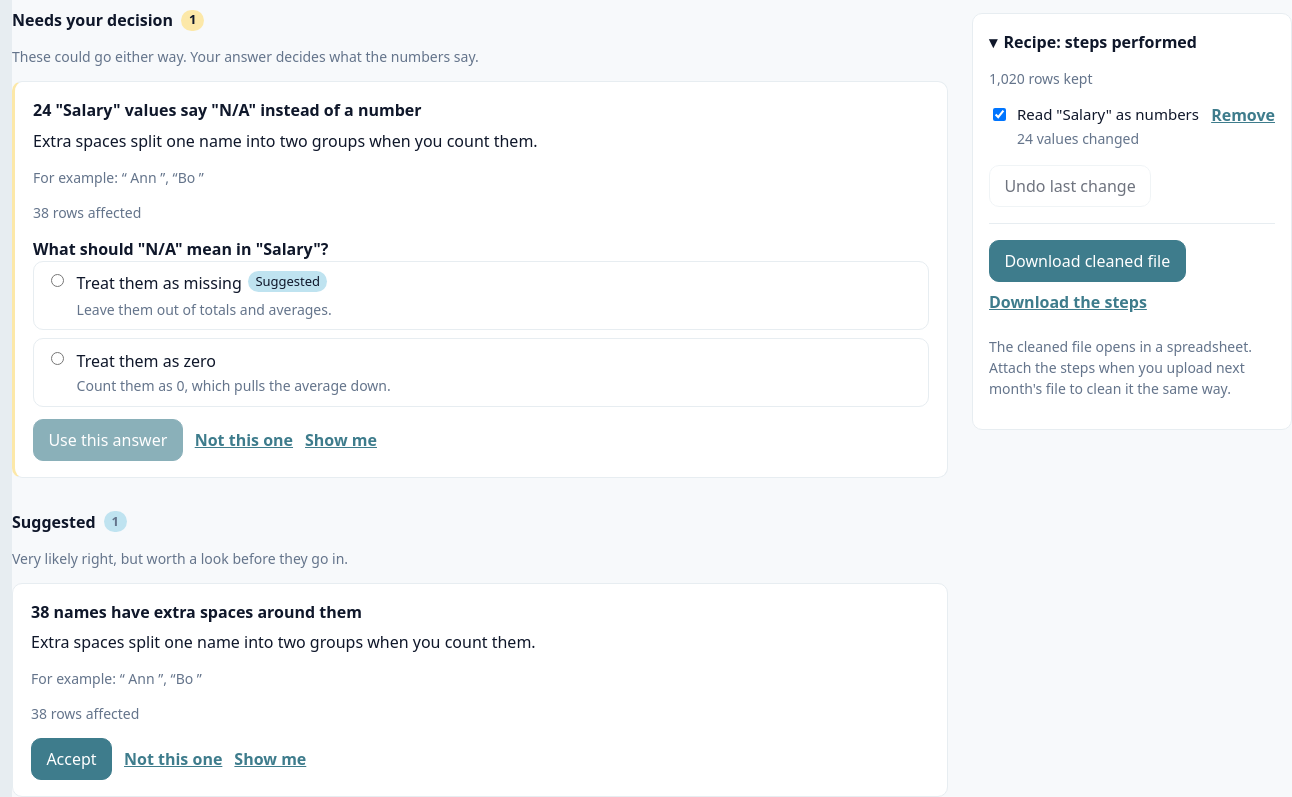
Test case: ReviewPage › only asks for example rows when they are wanted
(page scrolled)
Expected: the heading "Suggested 1" is shown, [12,511,127,533]
Click the 2nd button "Show me" at (270,759), box [234,747,306,771]
(page scrolled)
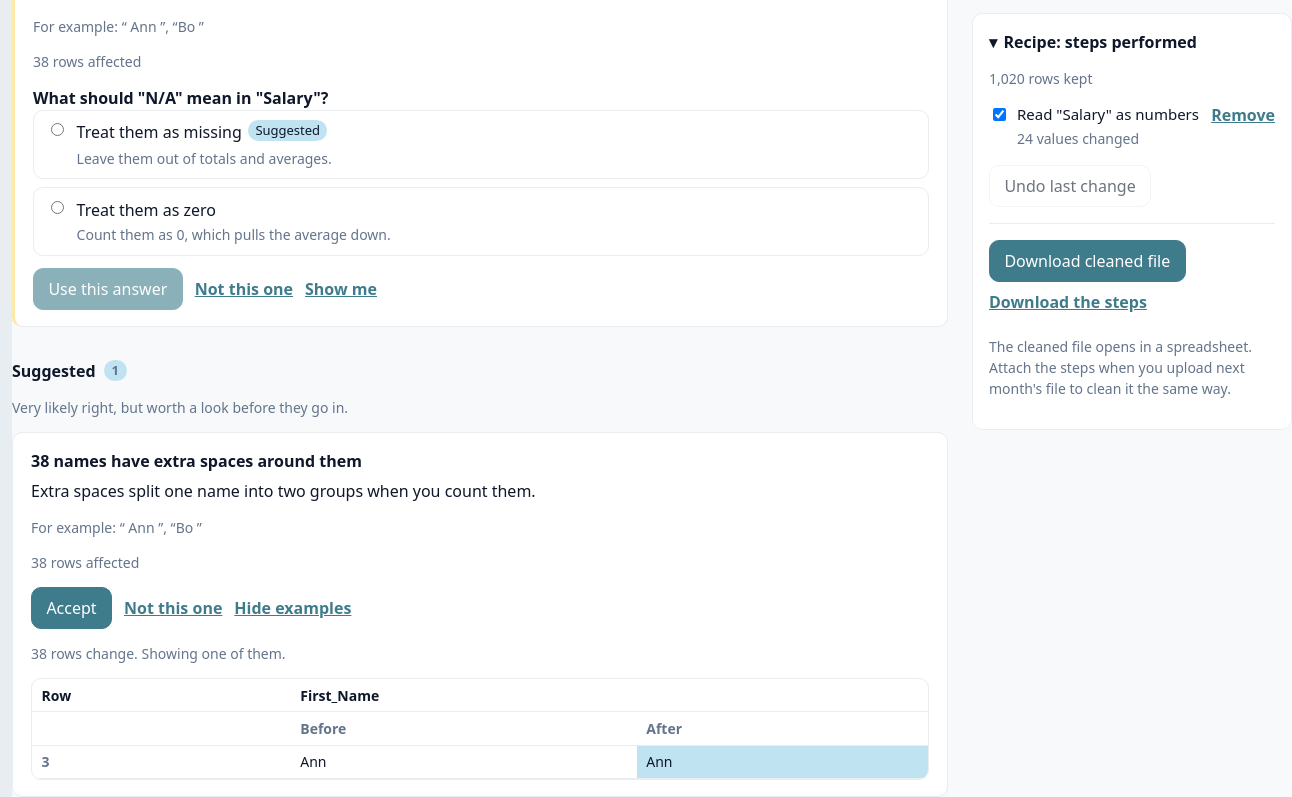
Expected: the text "38 rows change. Showing one of them." is shown, [31,644,286,663]
Expected: the text "Ann" is shown 2 times, [291,746,637,778]; [637,746,928,778]
